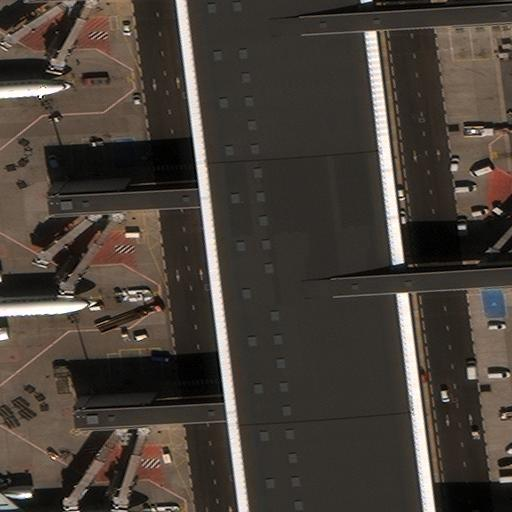Large Civil Transport: (0, 262, 96, 357), (0, 462, 136, 511), (0, 57, 71, 128)
